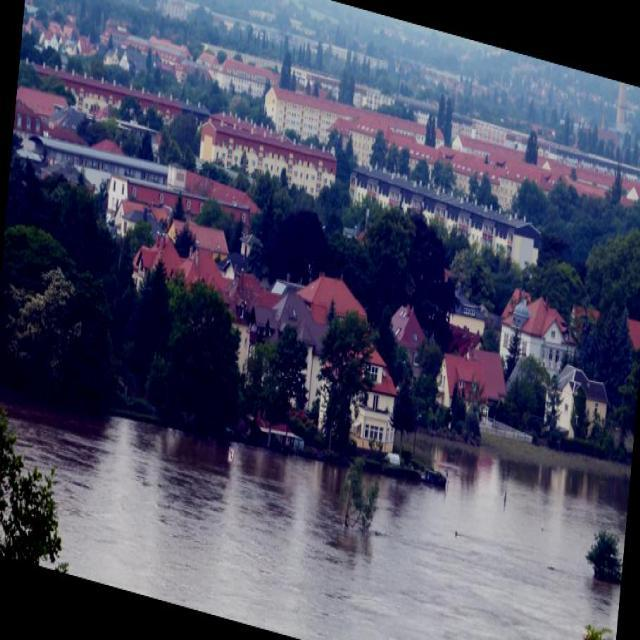flood: (0, 301, 630, 639)
